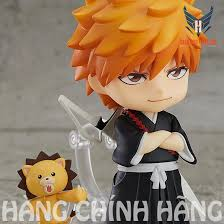Ichigo: (82, 1, 196, 115)
